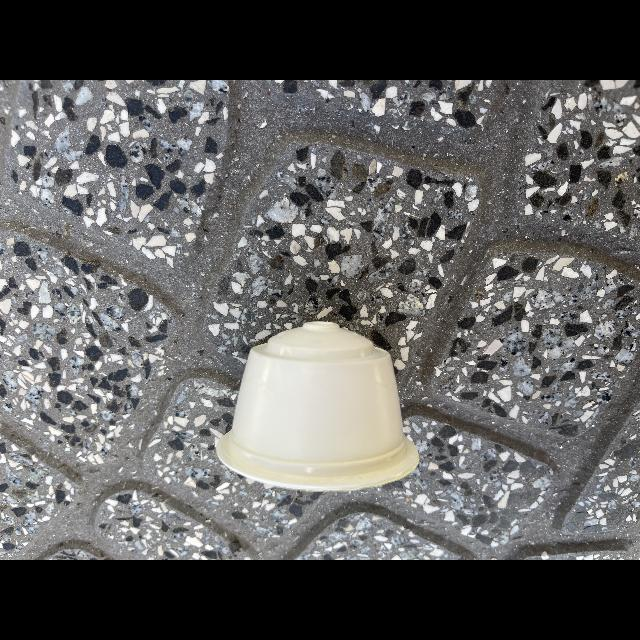intact_capsule: (203, 316, 433, 510)
